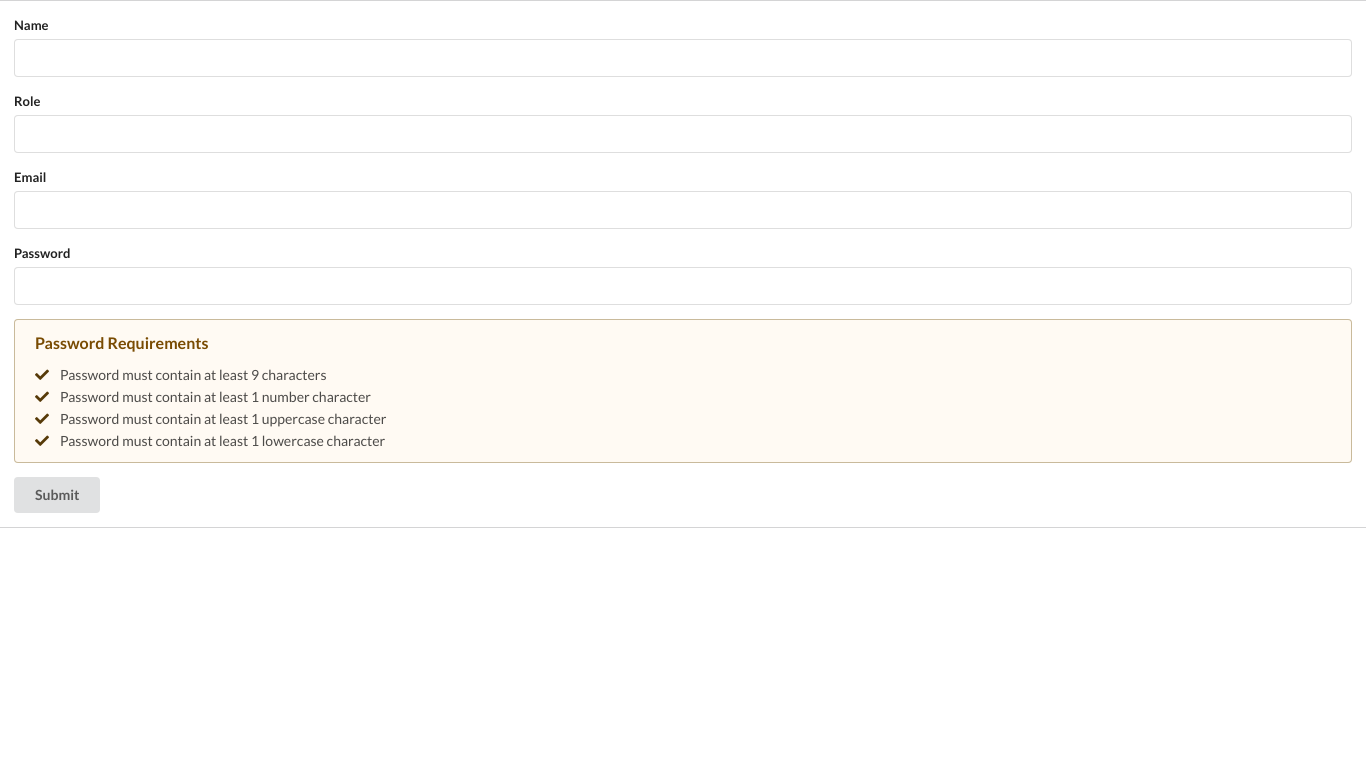
Test case: <FirstName /> › should show a specific error message if the email is invalid
The width and height of the screenshot is (1366, 768).
Expected: the text "Oops! This field is required" is not shown
Type "invalid_email" into the field labelled "Email" at (683, 210), box [14,191,1352,229]
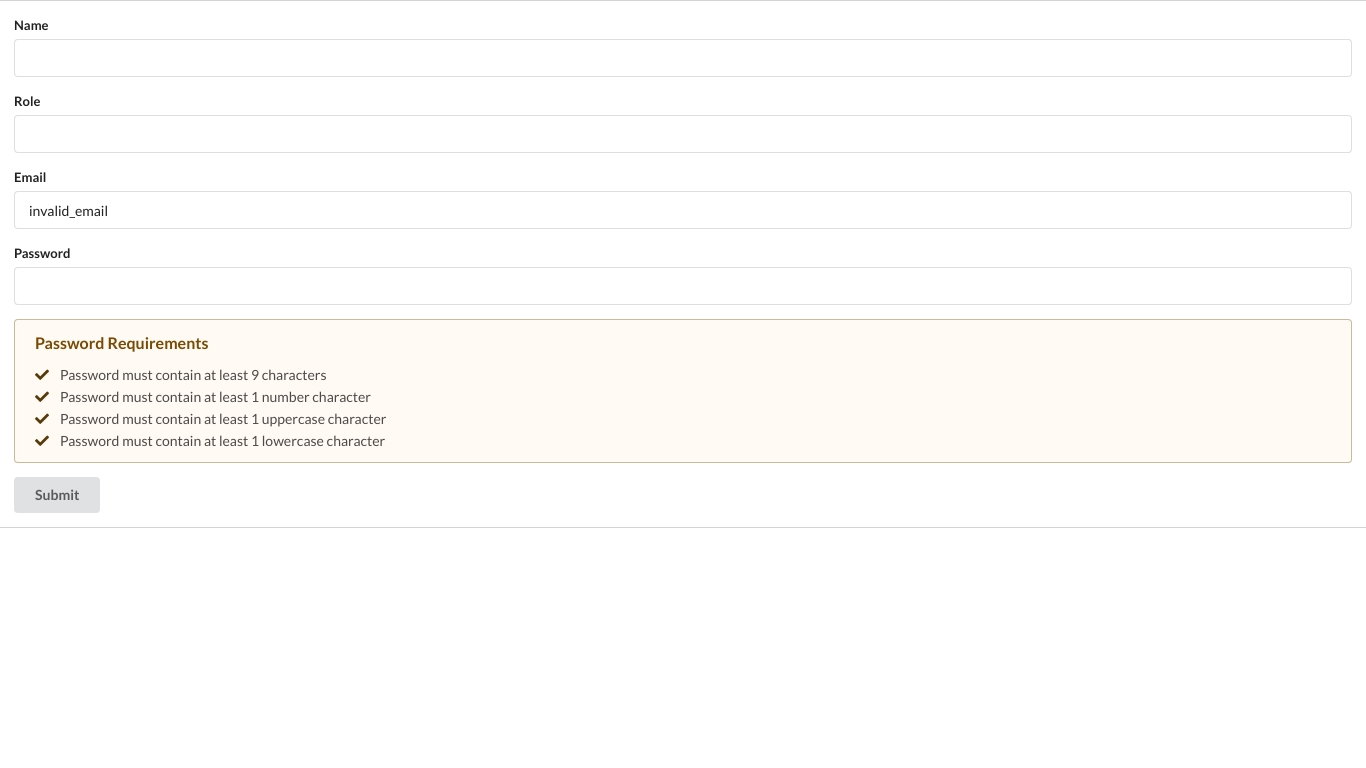
Click the button "Submit" at (57, 495), box [14,477,100,513]
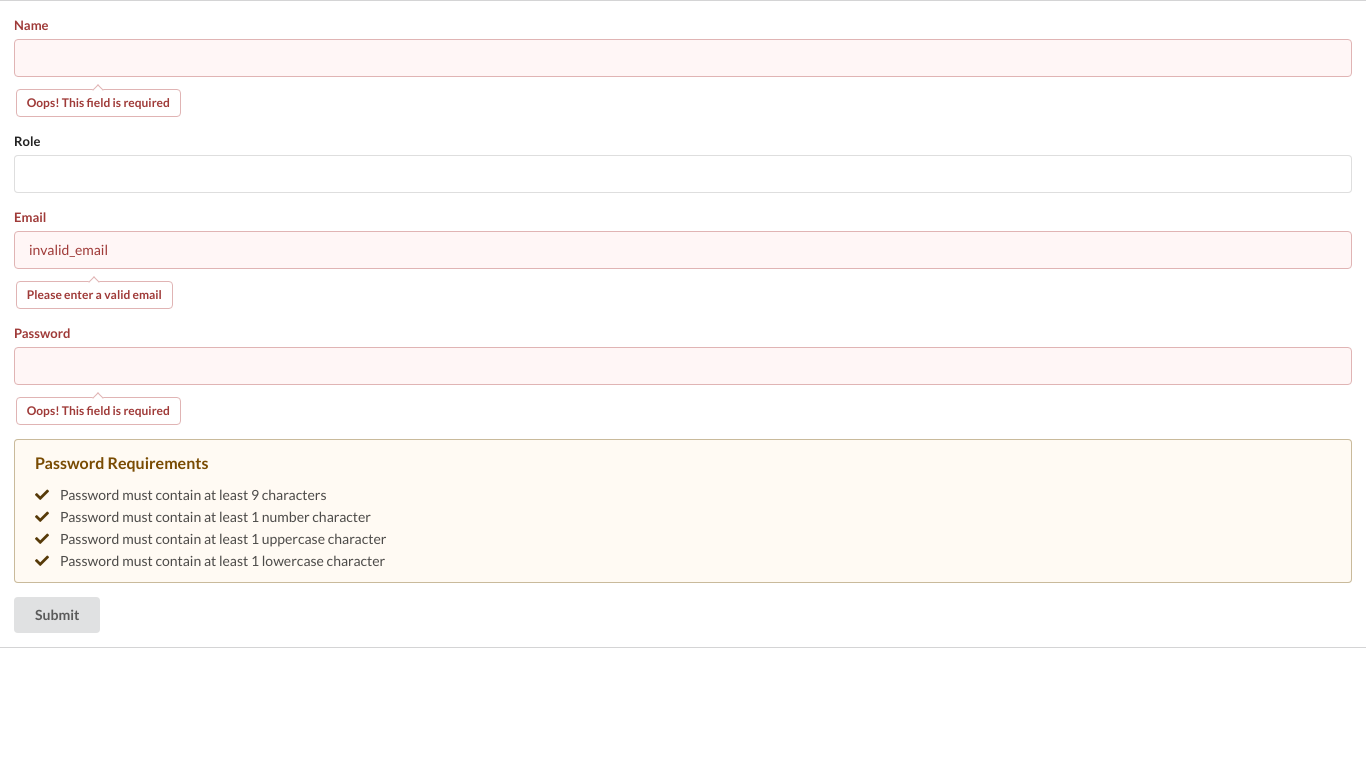
Result: the text "Please enter a valid email" is shown at [16,281,173,309]
